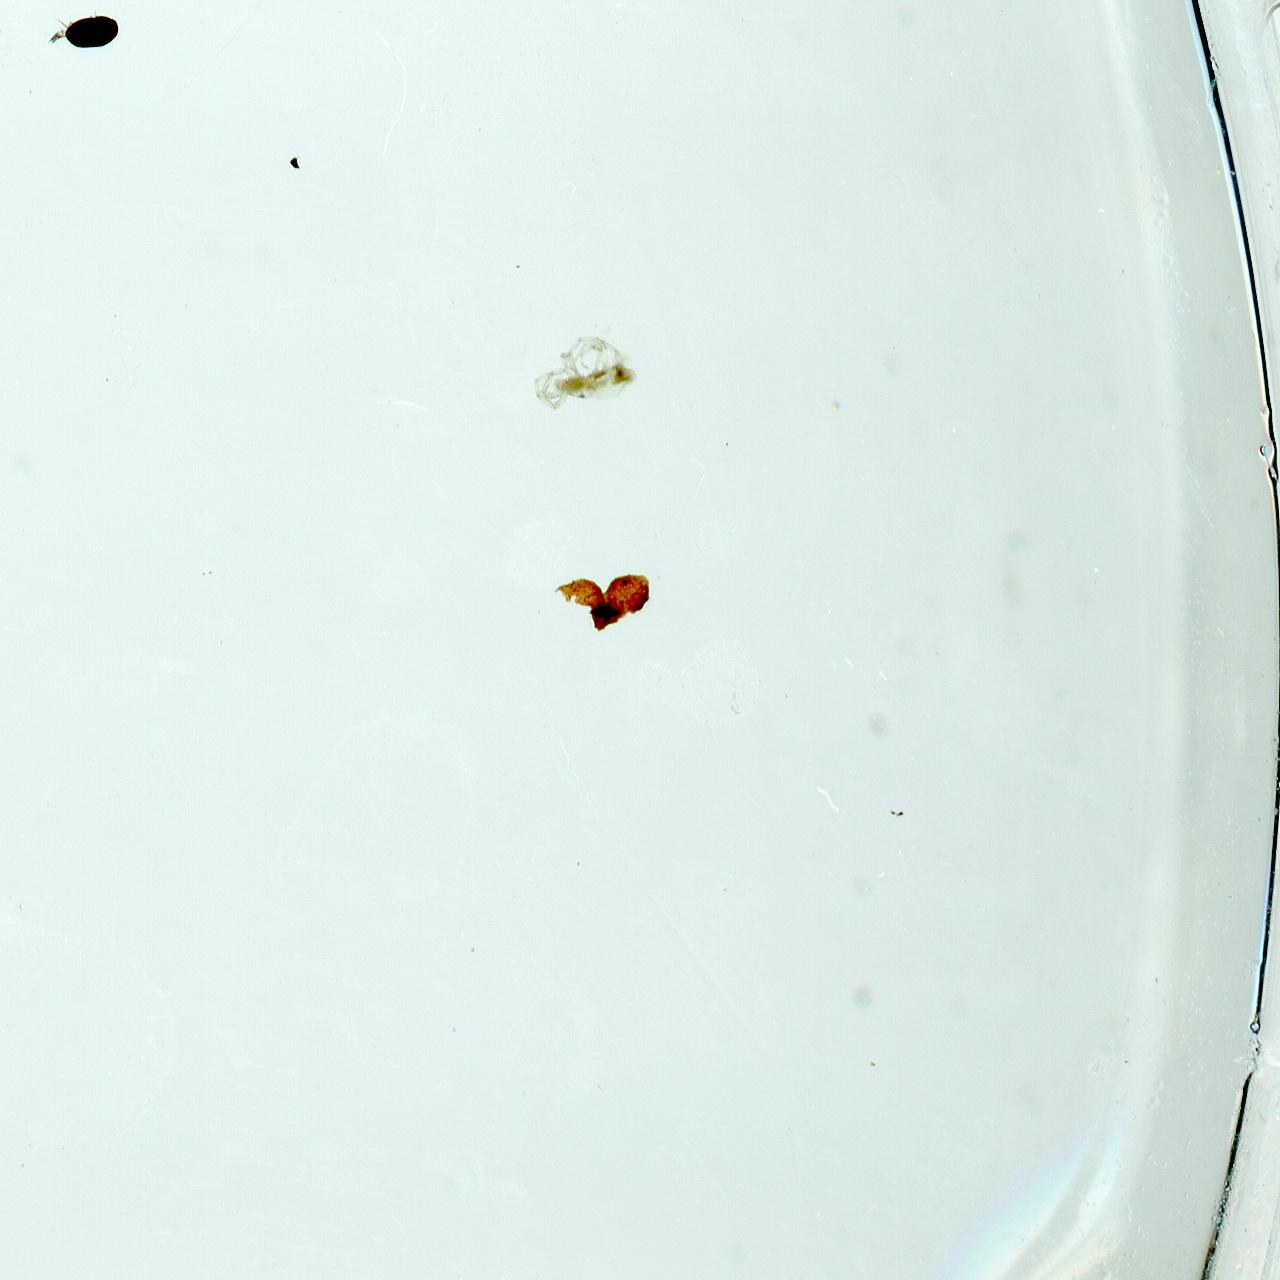arthropod: (531, 332, 642, 413), (53, 8, 123, 50)
